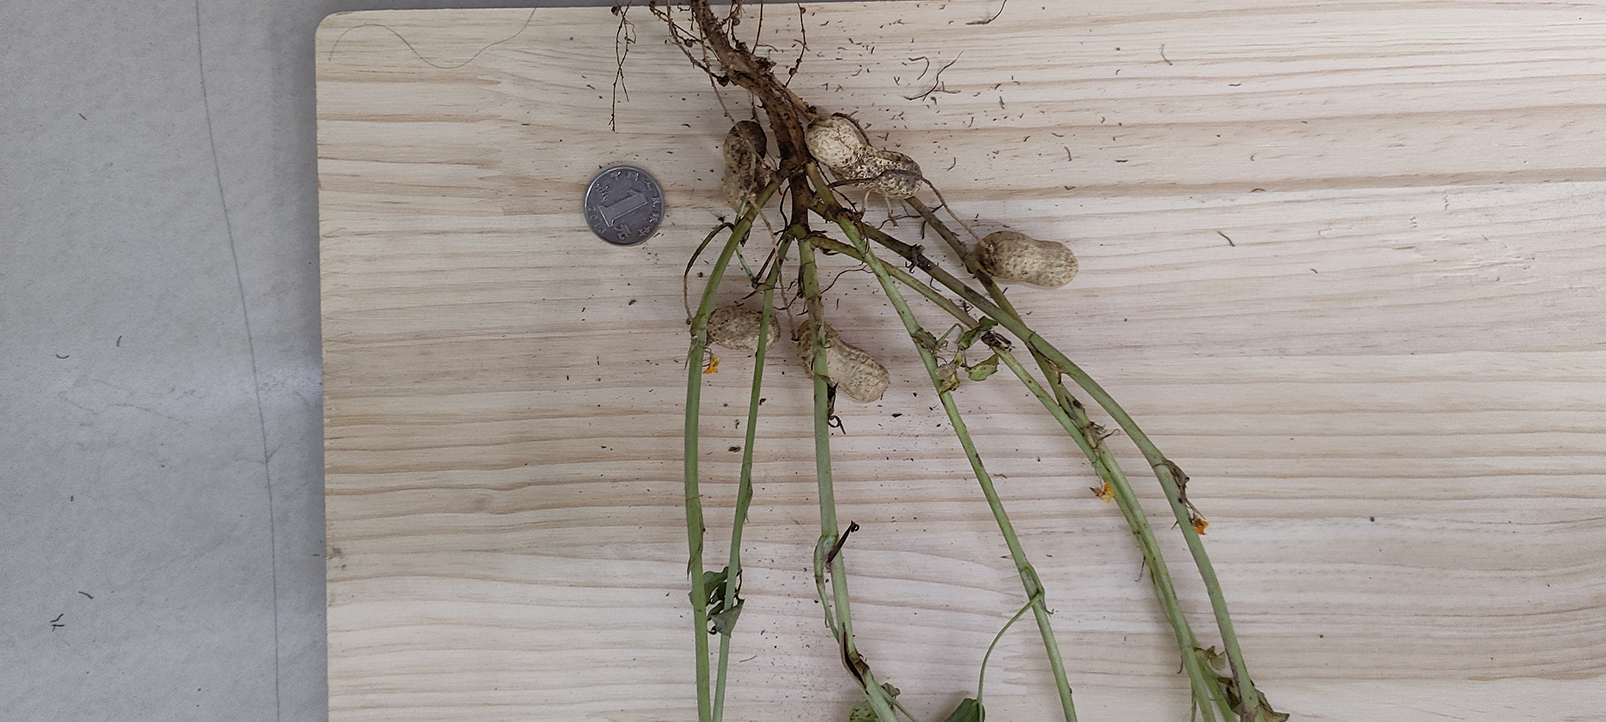h: (803, 115, 922, 199), (795, 320, 891, 402), (978, 230, 1080, 288)
l: (721, 120, 766, 211), (706, 306, 781, 352)
